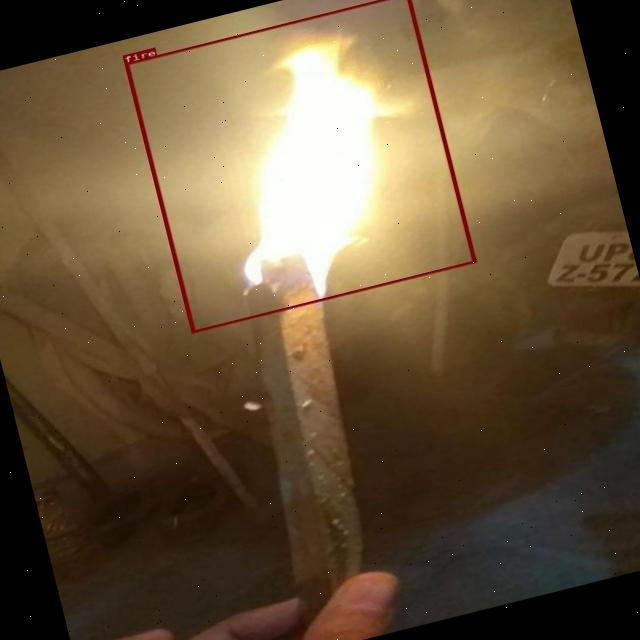fire: (123, 0, 476, 332)
